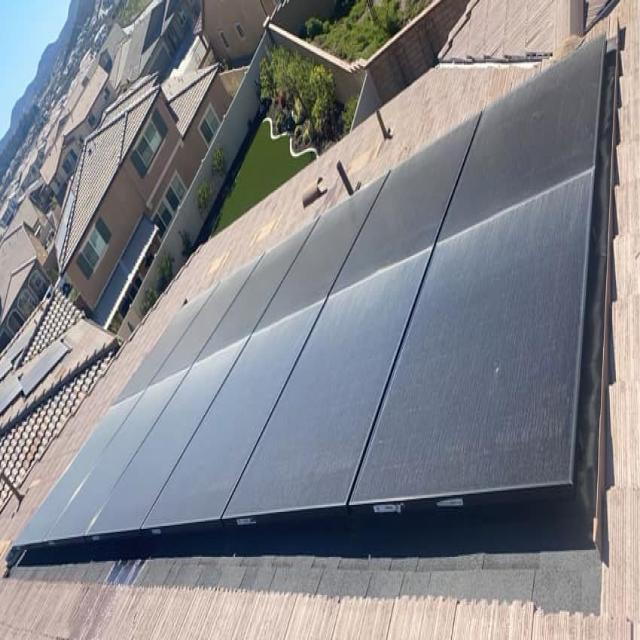dusty: (118, 28, 591, 421)
